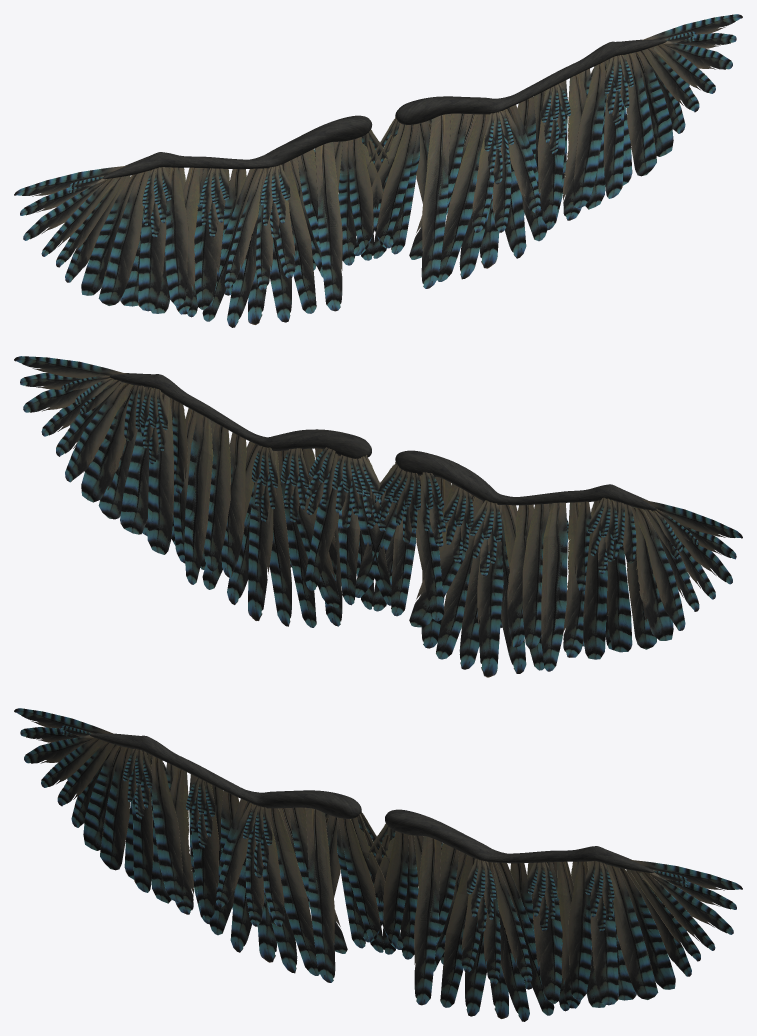
File: mhw_elvs_dual_fanned_wings_collaberation.glb
3 renders of one model, top to bottom at view 1: azimuth 30°, elevation 25°; view 2: azimuth 150°, elevation 25°; view 3: azimuth 330°, elevation 25°, orthographic.
Parts seen in each view (by area): view 1: mhw_elvs_dual_fanned_wings_collaberation; view 2: mhw_elvs_dual_fanned_wings_collaberation; view 3: mhw_elvs_dual_fanned_wings_collaberation.
Boxes of the visible parts, x1,y1,x2,y2 form: mhw_elvs_dual_fanned_wings_collaberation: (14,14,742,327); mhw_elvs_dual_fanned_wings_collaberation: (14,356,742,677); mhw_elvs_dual_fanned_wings_collaberation: (14,708,742,1021).
Bounding box in the file's own units: 4.04 × 1.12 × 0.185.
Materials: 1 (1 with a texture image).
